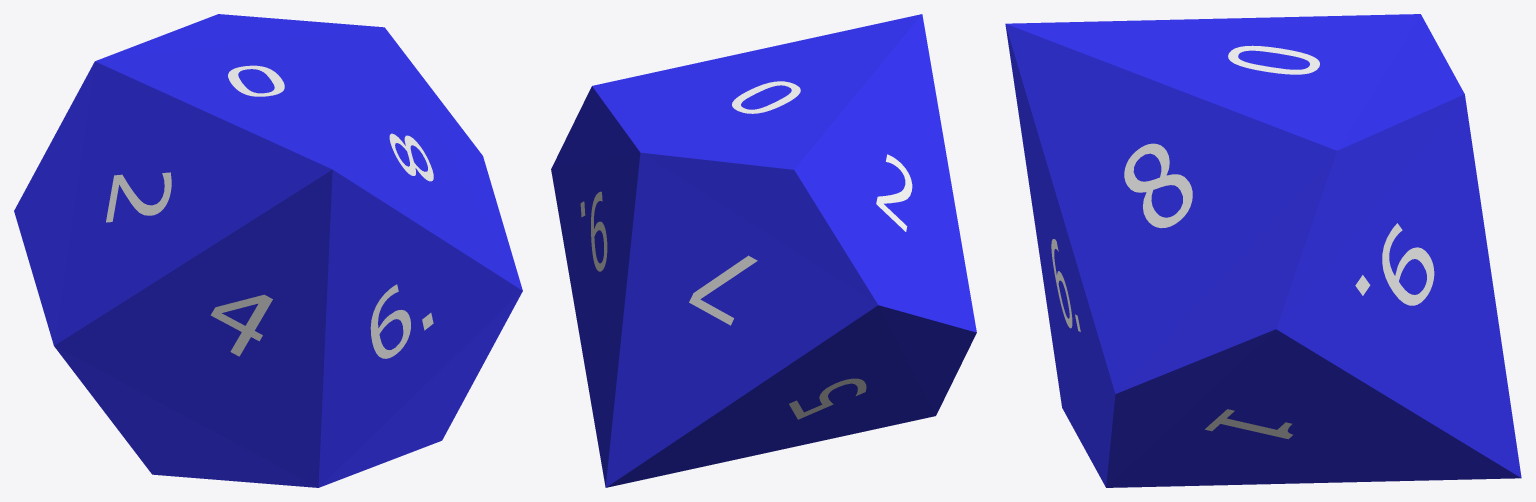
File: dnd_dice_d10.dae
3 views of the same model, side by side, from view 1: azimuth 30°, elevation 25°; view 2: azimuth 150°, elevation 25°; view 3: azimuth 270°, elevation 25° (orthographic). The views are drawn at different scales.
Parts seen in each view (by area): view 1: group_0, instance_2, instance_3, instance_1, instance_0, instance_4; view 2: group_0, instance_5, instance_0, instance_1, instance_7, instance_8; view 3: group_0, instance_4, instance_8, instance_0, instance_9.
Boxes of the visible parts, x1,y1,x2,y2 form: group_0: [14, 14, 522, 487]; instance_2: [210, 294, 272, 356]; instance_3: [370, 284, 433, 358]; instance_1: [106, 172, 171, 222]; instance_0: [228, 65, 284, 96]; instance_4: [389, 133, 433, 181]; group_0: [551, 14, 976, 487]; instance_5: [689, 255, 757, 325]; instance_0: [732, 81, 800, 113]; instance_1: [876, 154, 912, 231]; instance_7: [789, 378, 866, 419]; instance_8: [580, 191, 607, 271]; group_0: [1005, 14, 1521, 487]; instance_4: [1124, 143, 1192, 228]; instance_8: [1355, 223, 1434, 305]; instance_0: [1228, 45, 1319, 74]; instance_9: [1205, 409, 1292, 439].
Size of the model in its own units: 1.36 by 1.24 by 1.06.
